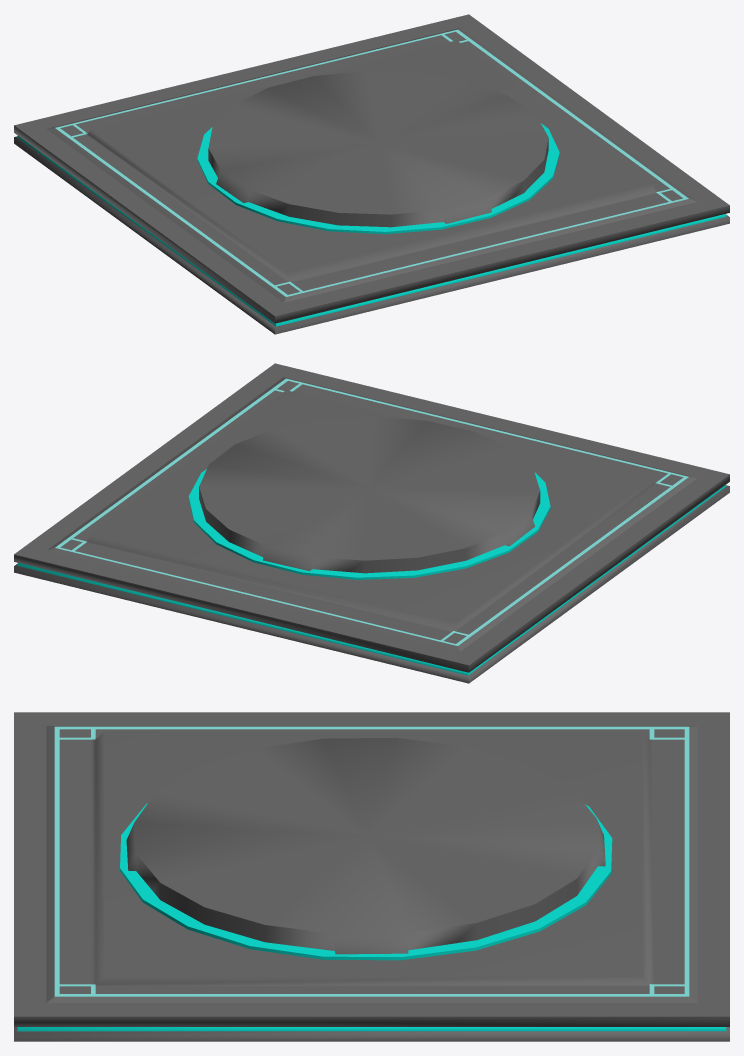
File: JUMPZONE (1).fbx
3 renders of one model, top to bottom at view 1: azimuth 30°, elevation 25°; view 2: azimuth 150°, elevation 25°; view 3: azimuth 270°, elevation 25°, orthographic. The views are drawn at different scales.
Parts seen in each view (by area): view 1: pCube4, pCylinder2, pCube2, pCylinder1, pCube3; view 2: pCube4, pCylinder2, pCube2, pCylinder1, pCube3; view 3: pCube4, pCylinder2, pCube2, pCylinder1, pCube3.
Part boxes in pixels (bbox=[...]): pCube4: bbox=[47, 28, 697, 302]; pCylinder2: bbox=[208, 71, 548, 227]; pCube2: bbox=[14, 14, 729, 334]; pCylinder1: bbox=[197, 123, 559, 234]; pCube3: bbox=[17, 136, 726, 326]; pCube4: bbox=[46, 377, 696, 651]; pCylinder2: bbox=[199, 416, 540, 573]; pCube2: bbox=[14, 363, 729, 683]; pCylinder1: bbox=[188, 469, 550, 579]; pCube3: bbox=[17, 485, 726, 675]; pCube4: bbox=[46, 726, 697, 1002]; pCylinder2: bbox=[126, 737, 605, 954]; pCube2: bbox=[14, 712, 729, 1041]; pCylinder1: bbox=[120, 803, 612, 960]; pCube3: bbox=[17, 1027, 726, 1031].
Bounding box in the file's own units: 10 × 0.868 × 9.94.
